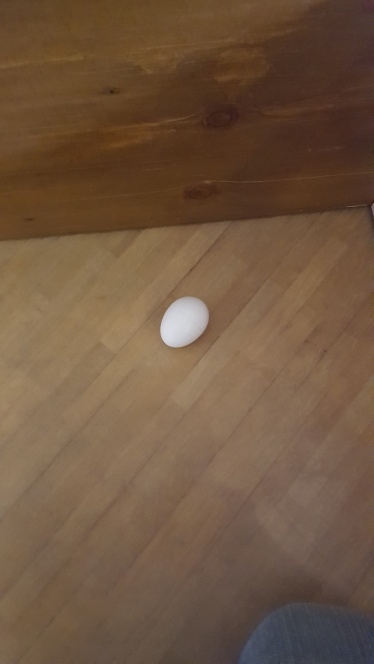egg: (160, 295, 209, 352)
